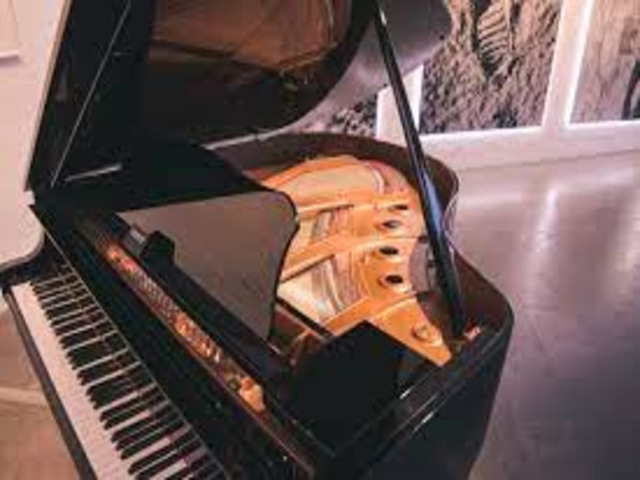Piano: (1, 5, 513, 475)
